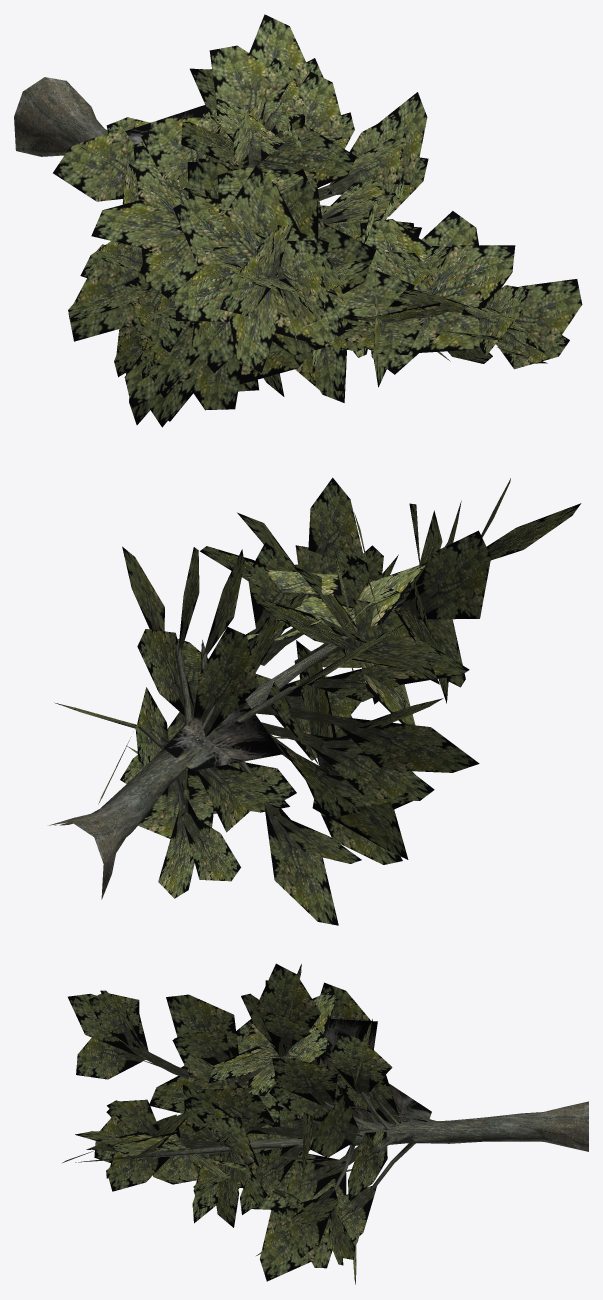
Rendered from tree_grey_oak_med_a.glb.
3 renders of one model, top to bottom at view 1: azimuth 30°, elevation 25°; view 2: azimuth 150°, elevation 25°; view 3: azimuth 270°, elevation 25°, orthographic. The views are drawn at different scales.
Bounding box in the file's own units: 241 × 234 × 410.
2 materials, 2 textured.
